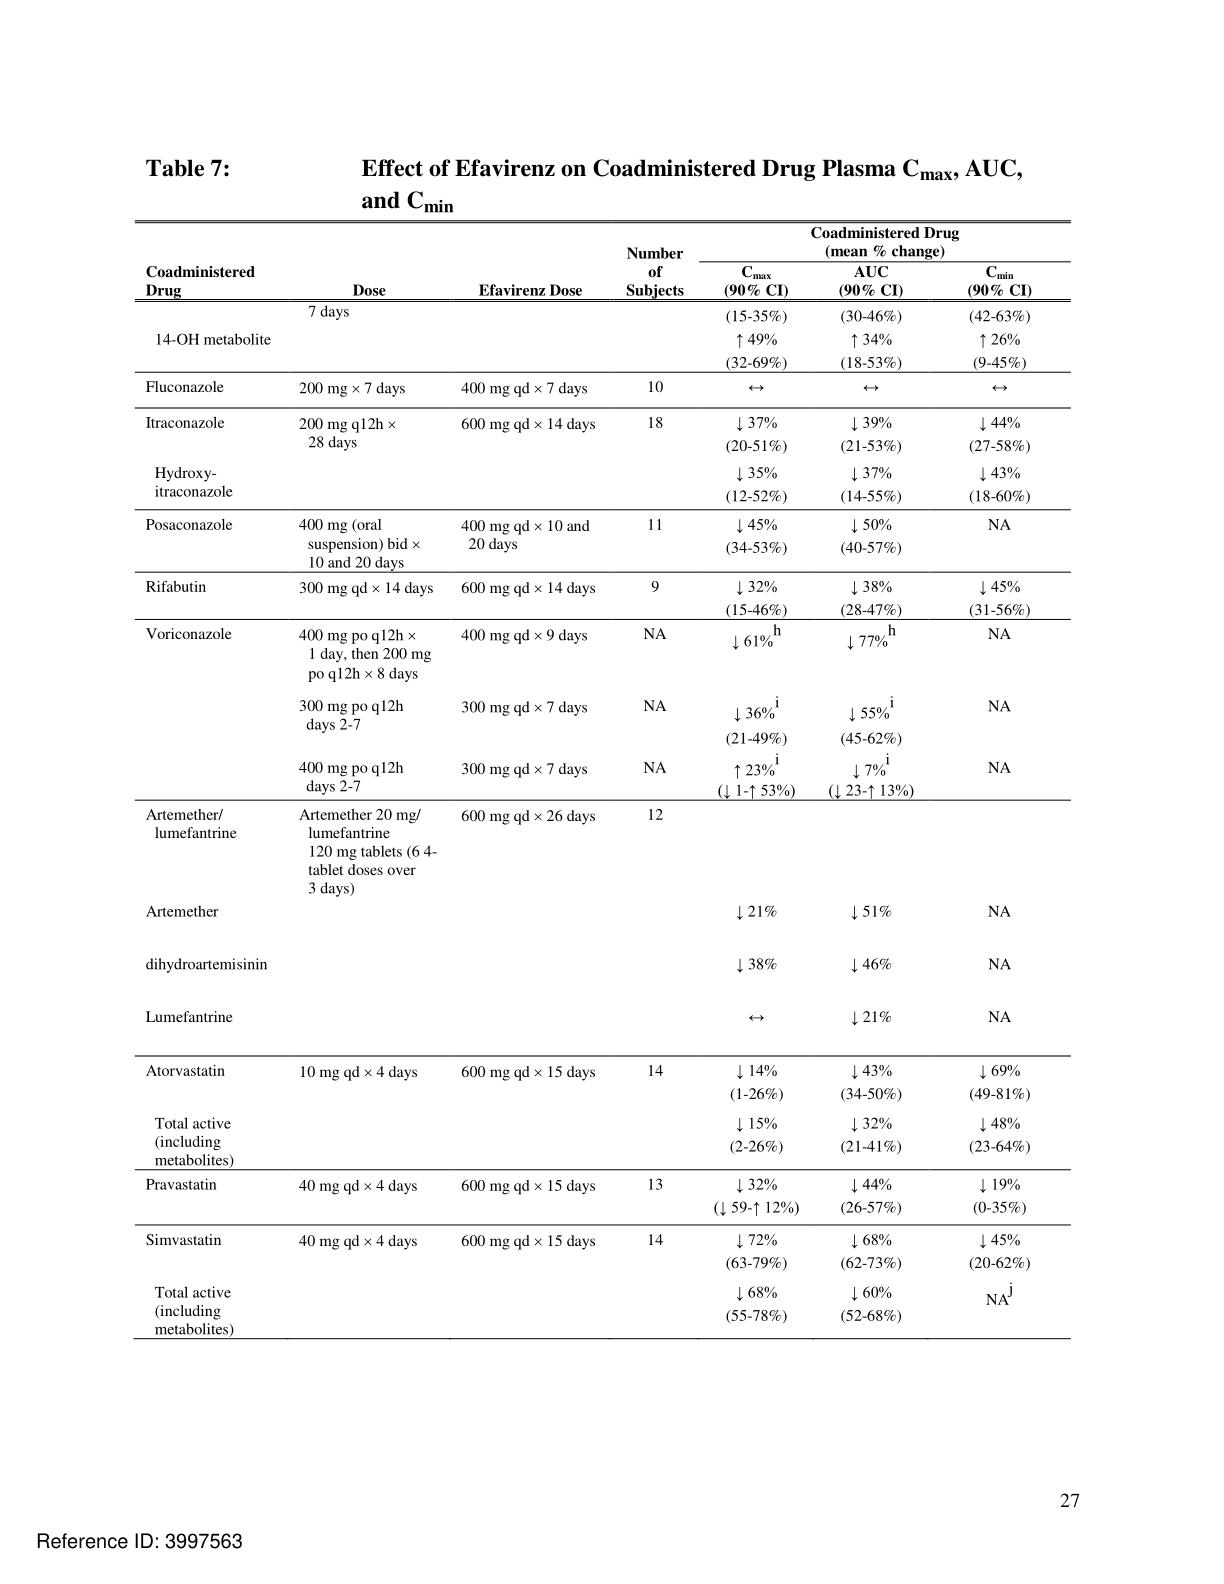partial_lined_merged_cells: (132, 219, 1072, 1341)
